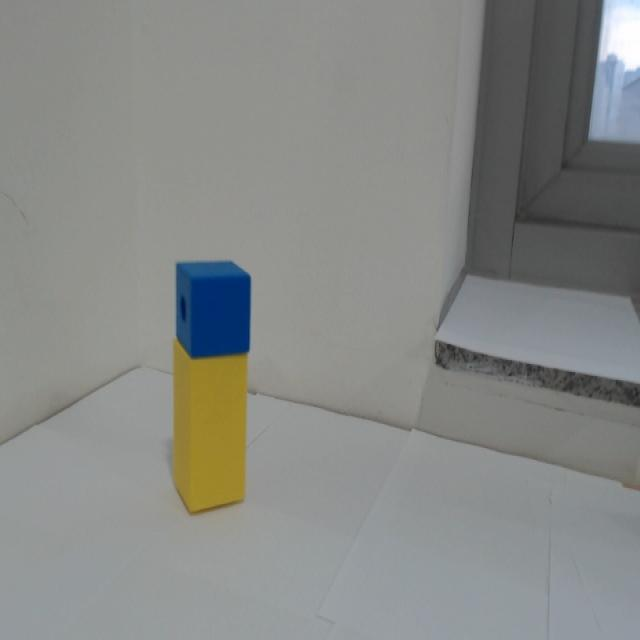cube: (166, 253, 253, 358)
